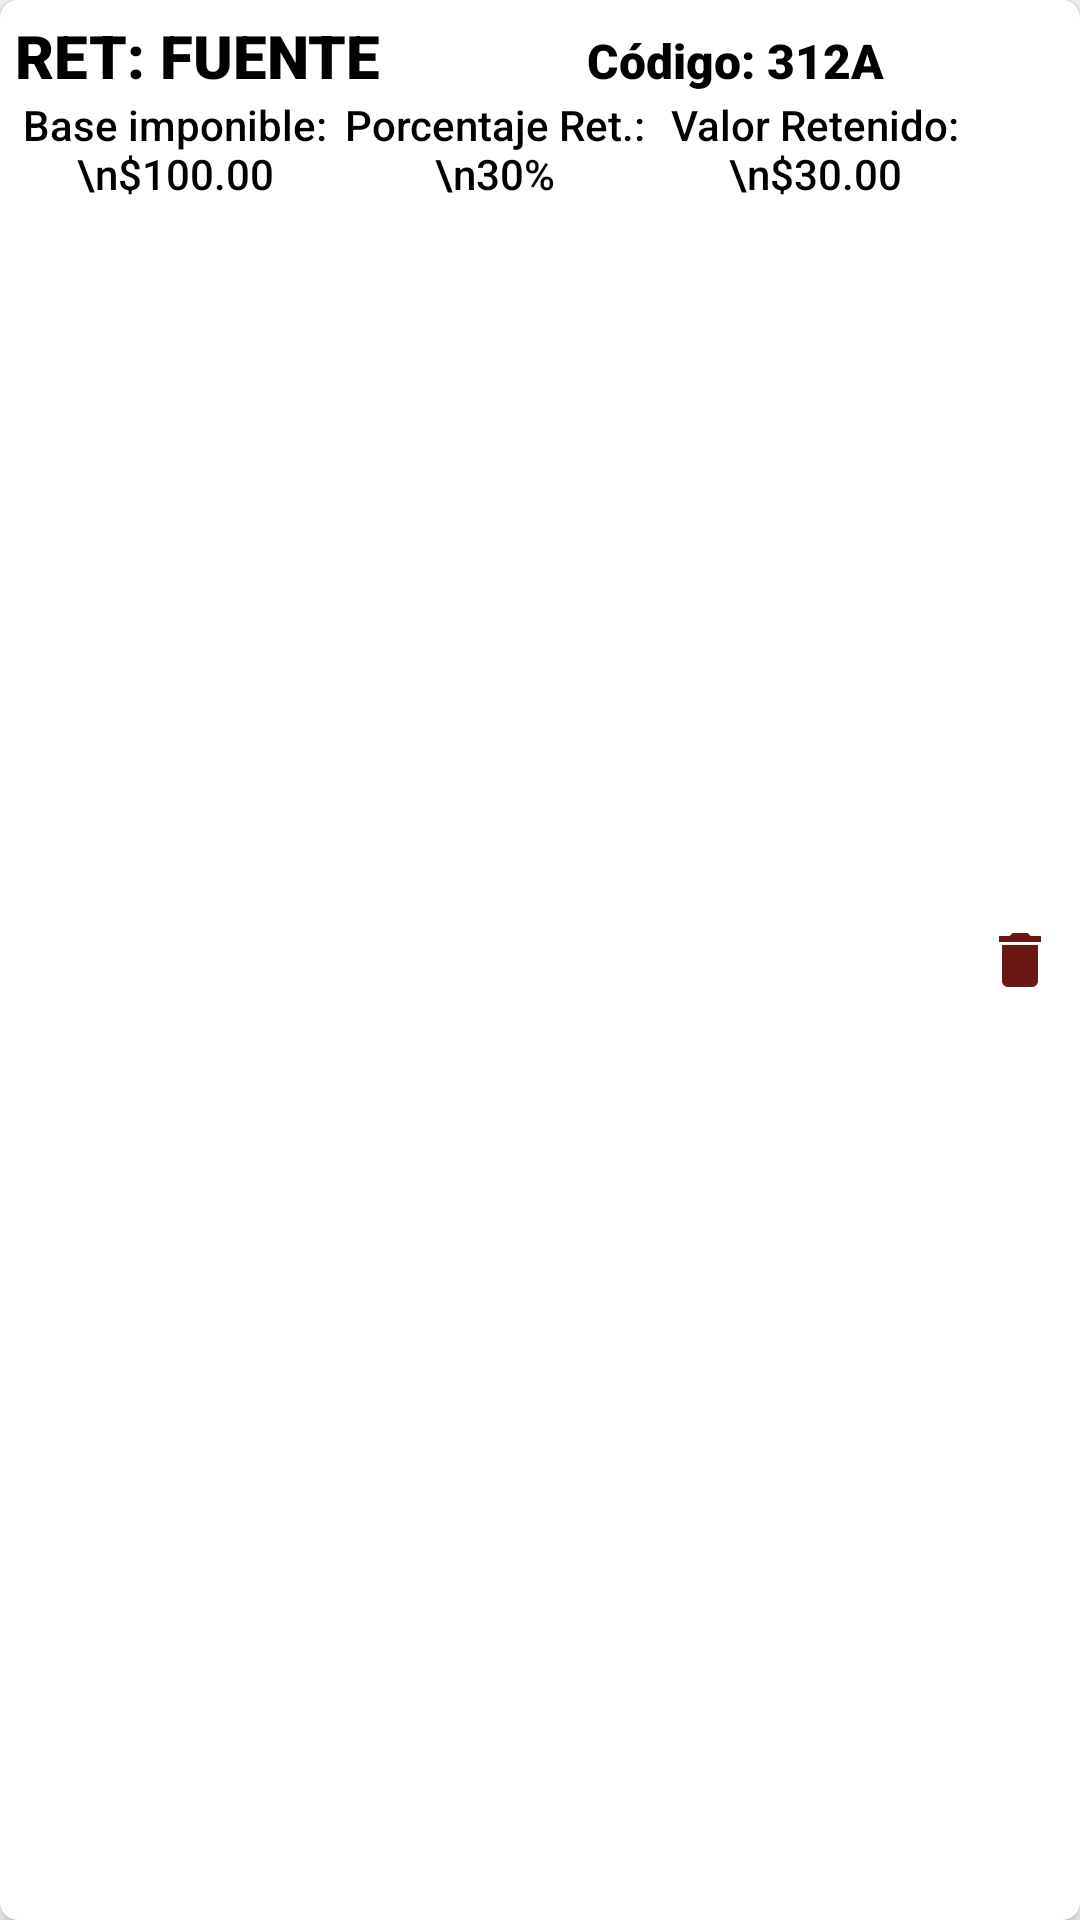

Where icons sit on this 1080 × 1920 app screen, as [x1,y1,x2,y2]:
delete: [999,933,1041,987]
